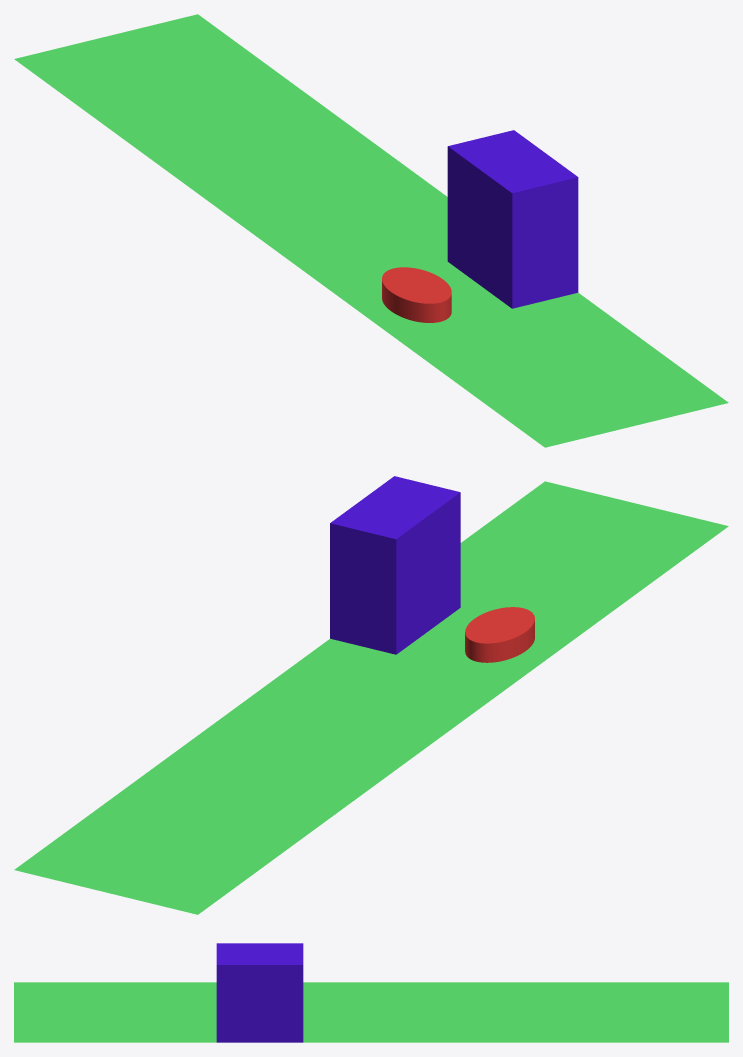
File: stage3.glb
The picture shows the model from 3 angles, top to bottom: view 1: azimuth 30°, elevation 25°; view 2: azimuth 150°, elevation 25°; view 3: azimuth 270°, elevation 25°; orthographic projection. The views are drawn at different scales.
Visible parts, largest first — view 1: ground, obstacle1, obstacle2; view 2: ground, obstacle1, obstacle2; view 3: ground, obstacle1.
Boxes of the visible parts, box(x1,y1,x2,y2) form: ground: box(14, 14, 728, 447); obstacle1: box(447, 130, 578, 308); obstacle2: box(382, 267, 451, 322); ground: box(14, 481, 728, 914); obstacle1: box(330, 476, 460, 654); obstacle2: box(465, 607, 534, 662); ground: box(14, 982, 728, 1042); obstacle1: box(216, 943, 303, 1042).
Size of the model in its own units: 20 by 12 by 100.
